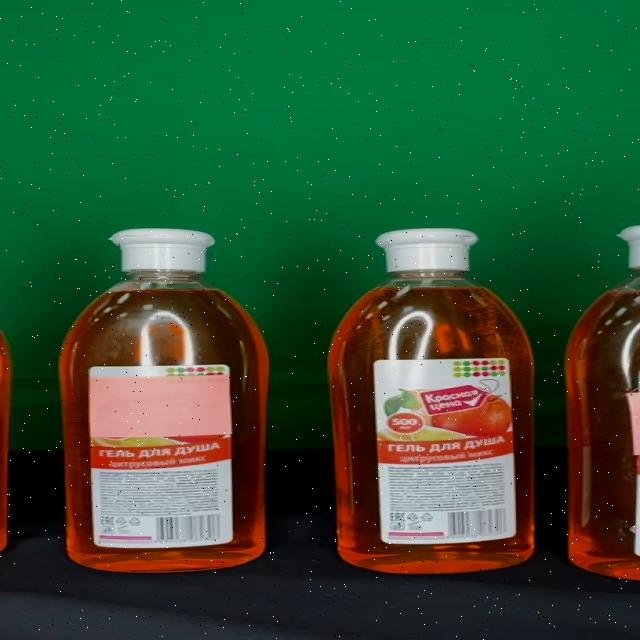Bottle: (59, 228, 271, 572), (328, 228, 534, 575)
Cap: (110, 230, 216, 273), (374, 229, 477, 271)
